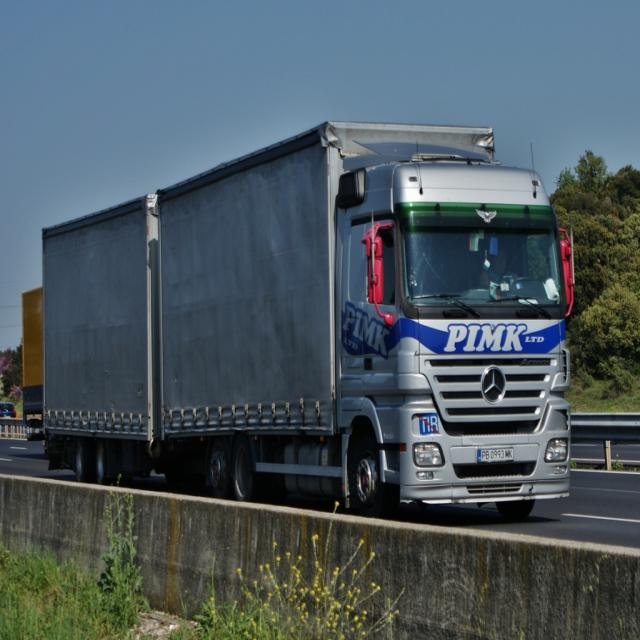Heavy Duty Truck: (38, 113, 581, 536)
